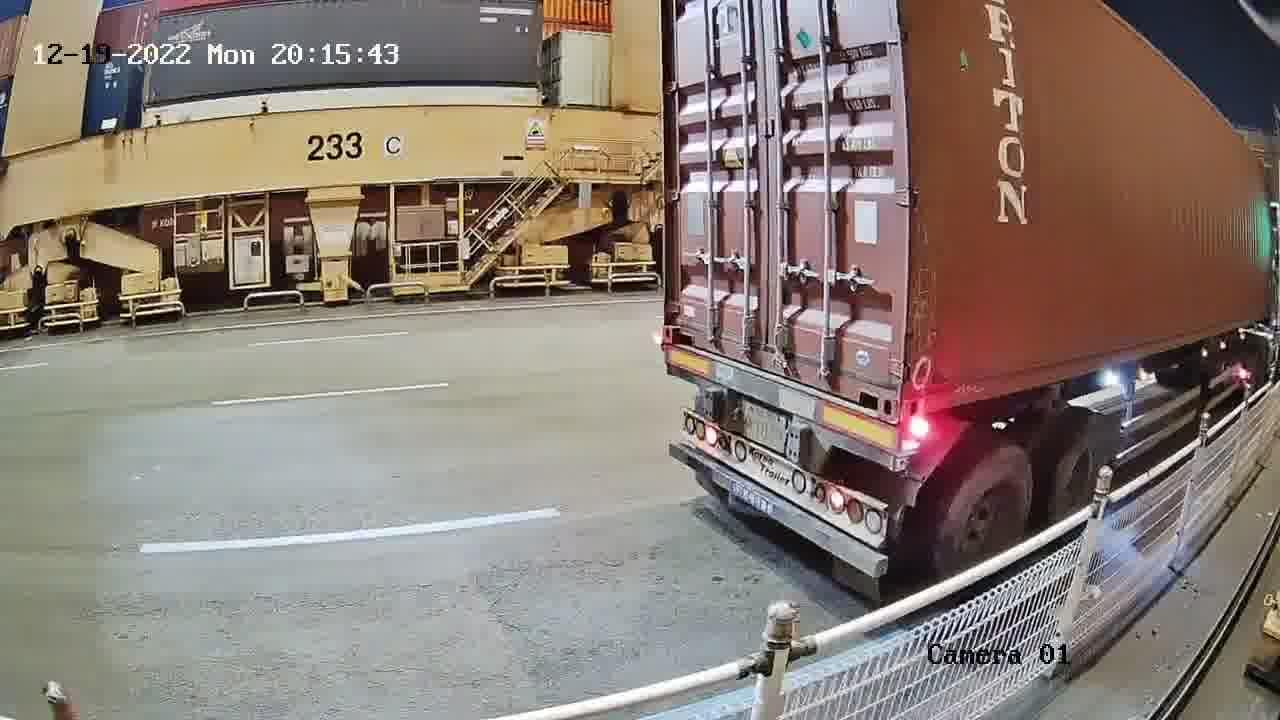Chassis: (664, 345, 902, 462)
Hole_L: (901, 367, 946, 424), (662, 300, 700, 349)
Hole_R: (844, 353, 901, 424)
Tire: (938, 449, 1036, 573), (1049, 417, 1114, 517)
